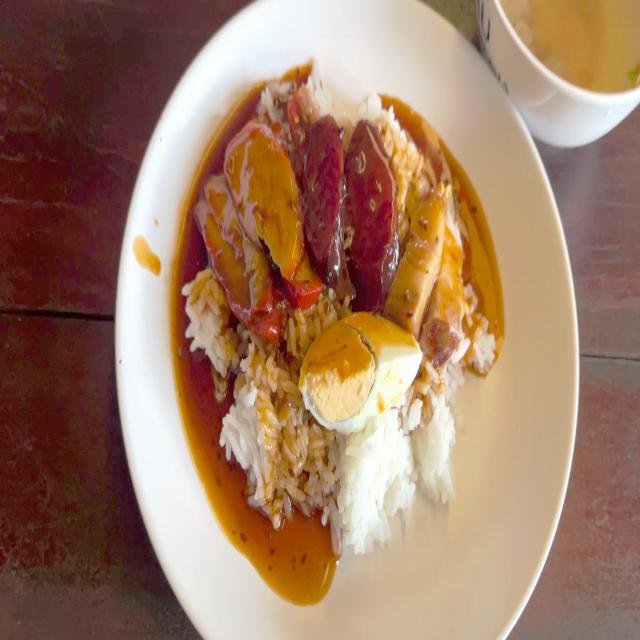boiled_egg: (304, 319, 421, 420)
chainese_sausage: (346, 127, 391, 300), (308, 108, 342, 276)
crispy_pork: (392, 185, 447, 327), (430, 202, 469, 336)
red_pork: (205, 184, 282, 334), (229, 123, 301, 278)
red_pork_and_crispy_pork: (190, 57, 495, 551)
rice: (300, 422, 458, 548), (228, 348, 301, 511), (189, 273, 226, 359)
